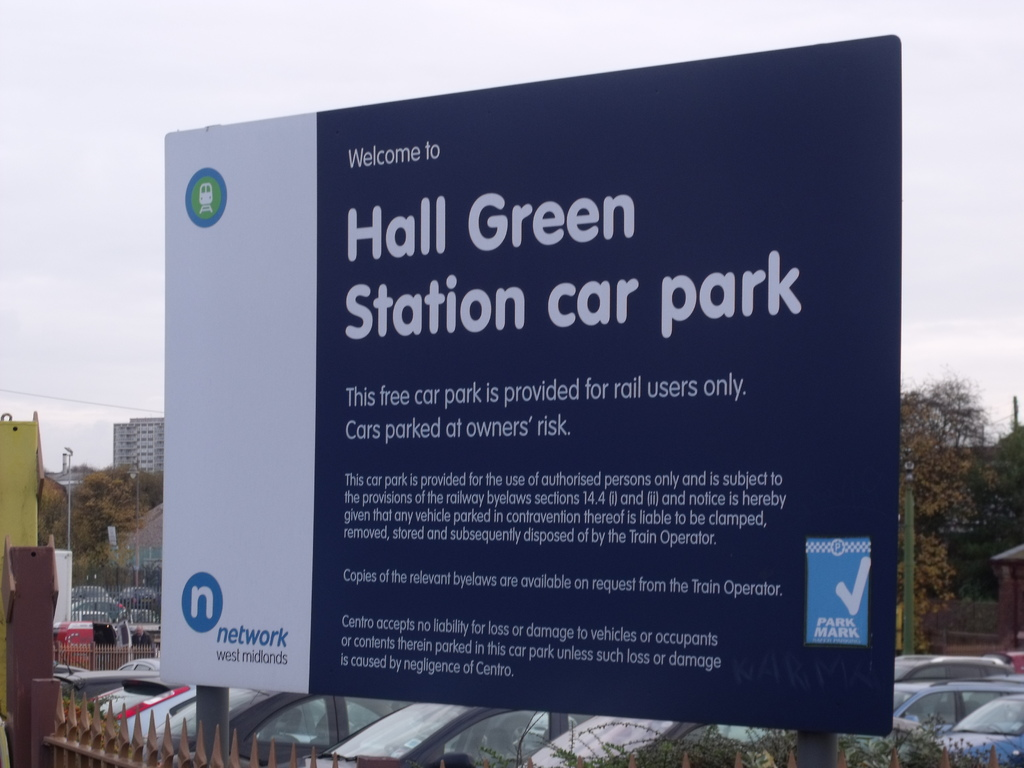Car: (53, 653, 1023, 767)
